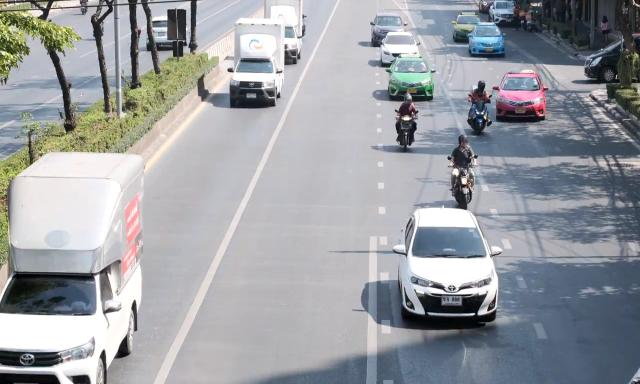carro: (583, 33, 640, 81), (496, 71, 550, 121), (386, 56, 435, 100), (146, 12, 182, 54), (379, 32, 422, 66), (370, 13, 408, 48), (467, 22, 506, 54), (451, 13, 483, 42), (490, 0, 517, 24), (480, 0, 494, 15)
moto: (448, 161, 478, 209), (393, 110, 420, 152), (466, 100, 492, 135), (526, 18, 541, 37), (520, 18, 529, 32)
van: (0, 151, 146, 384), (227, 20, 288, 109), (262, 0, 304, 62)
